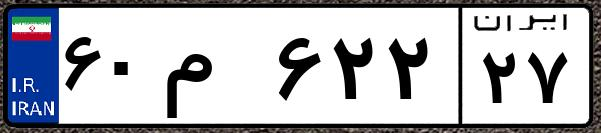0: (110, 28, 158, 98)
2: (385, 28, 445, 110), (330, 28, 385, 110), (475, 38, 525, 113)
6: (270, 28, 330, 110), (57, 26, 110, 100)
7: (525, 38, 570, 115)
م: (158, 20, 270, 120)
